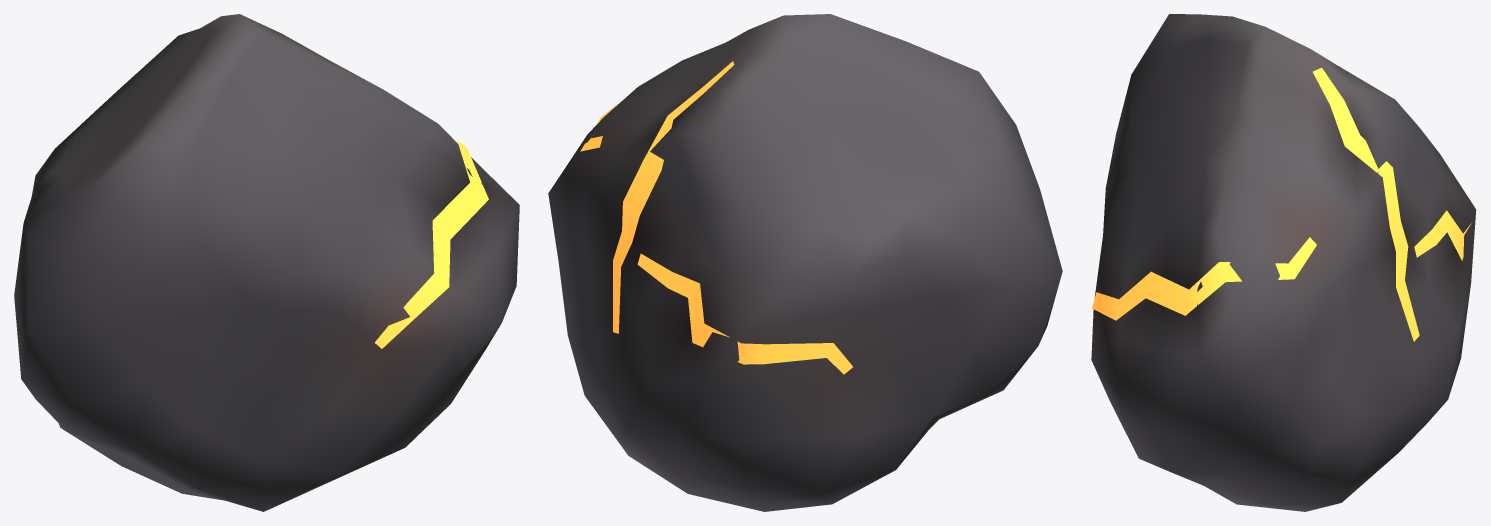
File: volcanic-rock.glb
3 views of the same model, side by side, from view 1: azimuth 30°, elevation 25°; view 2: azimuth 150°, elevation 25°; view 3: azimuth 270°, elevation 25° (orthographic). The views are drawn at different scales.
Parts seen in each view (by area): view 1: Basalt bomb.001, Molten fissures.001; view 2: Basalt bomb.001, Molten fissures.001; view 3: Basalt bomb.001, Molten fissures.001.
Boxes of the visible parts, x1,y1,x2,y2 form: Basalt bomb.001: (14, 14, 519, 511); Molten fissures.001: (374, 140, 488, 348); Basalt bomb.001: (548, 14, 1062, 511); Molten fissures.001: (580, 61, 852, 374); Basalt bomb.001: (1091, 14, 1476, 511); Molten fissures.001: (1092, 67, 1476, 341).
Bounding box in the file's own units: 2.37 × 2.25 × 1.69.
